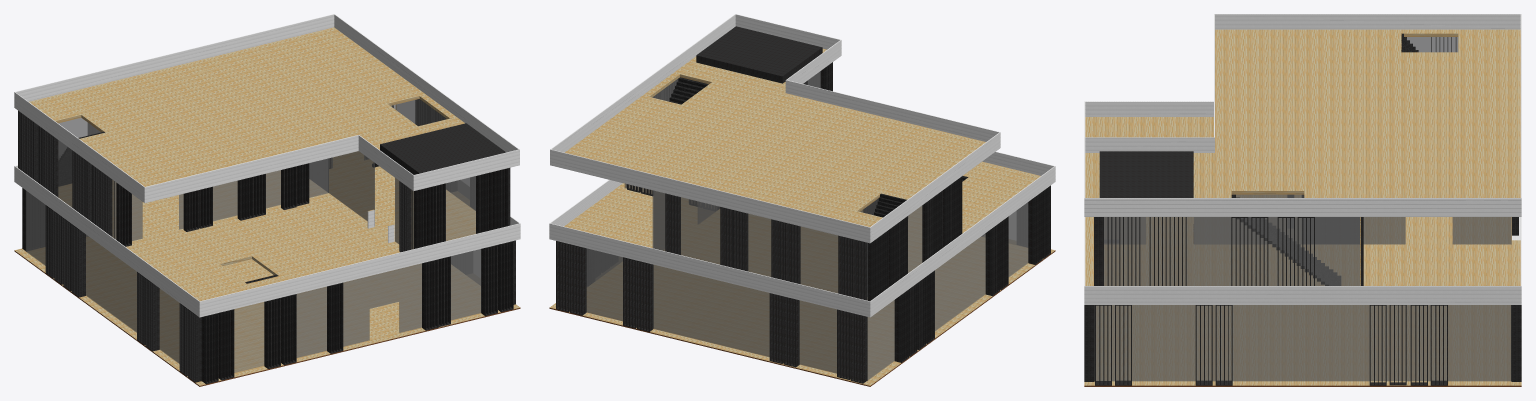
3 views of the same model, side by side, from view 1: azimuth 30°, elevation 25°; view 2: azimuth 150°, elevation 25°; view 3: azimuth 270°, elevation 25° (orthographic). The views are drawn at different scales.
Parts seen in each view (by area): view 1: G-No_Name_438, G-No_Name_510, G-No_Name_463, G-No_Name_451, G-No_Name_487, G-No_Name_512, G-No_Name_473, G-No_Name_498, G-No_Name_447, G-No_Name_504, G-No_Name_511, G-No_Name_466 (+28 smaller); view 2: G-No_Name_438, G-No_Name_510, G-No_Name_443, G-No_Name_482, G-No_Name_514, G-No_Name_476, G-No_Name_503, G-No_Name_474, G-No_Name_465, G-No_Name_471, G-No_Name_509, G-No_Name_478 (+23 smaller); view 3: G-No_Name_438, G-No_Name_510, G-No_Name_468, G-No_Name_478, G-No_Name_504, G-No_Name_481, G-No_Name_458, G-No_Name_485, G-No_Name_490, G-No_Name_500, G-No_Name_453, G-No_Name_449 (+10 smaller).
Boxes of the visible parts, box(x1,y1,x2,y2) form: G-No_Name_438: box(14, 14, 520, 373); G-No_Name_510: box(14, 237, 520, 386); G-No_Name_463: box(201, 313, 218, 384); G-No_Name_451: box(218, 309, 234, 380); G-No_Name_487: box(422, 259, 438, 330); G-No_Name_512: box(264, 298, 280, 368); G-No_Name_473: box(481, 245, 497, 316); G-No_Name_498: box(327, 282, 343, 353); G-No_Name_447: box(281, 294, 296, 365); G-No_Name_504: box(498, 241, 513, 312); G-No_Name_511: box(71, 224, 85, 297); G-No_Name_466: box(145, 278, 159, 351); G-No_Name_438: box(549, 14, 1055, 380); G-No_Name_510: box(549, 237, 1055, 386); G-No_Name_443: box(570, 244, 586, 315); G-No_Name_482: box(637, 260, 653, 331); G-No_Name_514: box(850, 313, 866, 383); G-No_Name_476: box(783, 296, 799, 367); G-No_Name_503: box(769, 293, 783, 363); G-No_Name_474: box(1028, 191, 1042, 264); G-No_Name_465: box(894, 289, 908, 362); G-No_Name_471: box(985, 223, 999, 296); G-No_Name_509: box(623, 257, 636, 328); G-No_Name_478: box(556, 241, 569, 312); G-No_Name_438: box(1084, 14, 1521, 381); G-No_Name_510: box(1084, 305, 1521, 386); G-No_Name_468: box(1231, 194, 1340, 285); G-No_Name_478: box(1512, 305, 1521, 381); G-No_Name_504: box(1084, 305, 1093, 381); G-No_Name_481: box(1115, 305, 1131, 385); G-No_Name_458: box(1095, 305, 1111, 385); G-No_Name_485: box(1231, 217, 1248, 285); G-No_Name_490: box(1251, 217, 1268, 285); G-No_Name_500: box(1369, 305, 1386, 385); G-No_Name_453: box(1389, 305, 1406, 385); G-No_Name_449: box(1195, 305, 1212, 385).
Size of what is drawn, in the model's own units: 32 by 15.18 by 32.
Materials: 10 (7 with a texture image).
